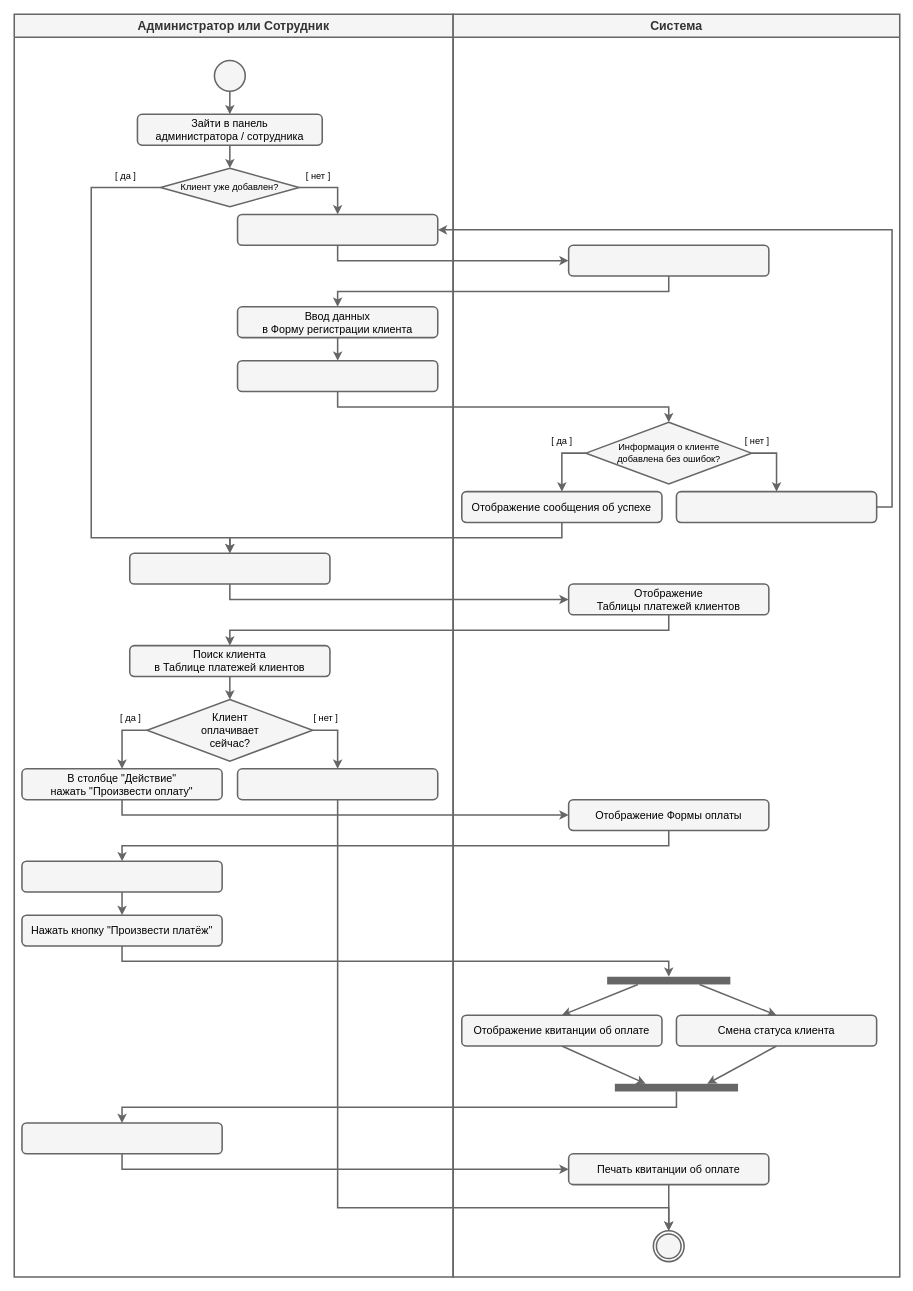
Some shapes in this 913 by 1291 pixel diagram are drawn without their labels. The shapes that lost their labels are listed below. From the top down, each one's centre as x and y in pixels, then its label:
(337,229): Нажать в боковом меню "Клиенты" – "Добавление клиента"
(668,260): Отображение Формы регистрации клиента
(337,376): Нажать кнопку "Подтвердить информацию о клиенте"
(776,506): Отображение сообщения о неудаче
(229,568): Нажать в боковом меню "Платежи от клиентов"
(337,784): В столбце "Напомнить" нажать "Напомнить"
(122,876): Ввод данных в Форму оплаты
(122,1138): Нажать кнопку "Напечатать"
